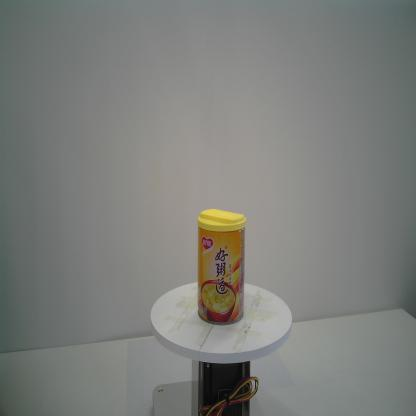Canned Food: (196, 207, 247, 327)
